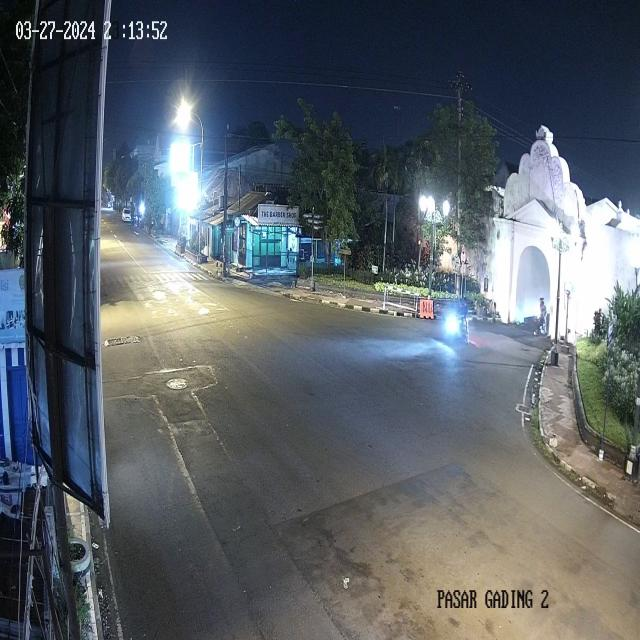motorcycle: (445, 294, 470, 349), (535, 299, 549, 337)
